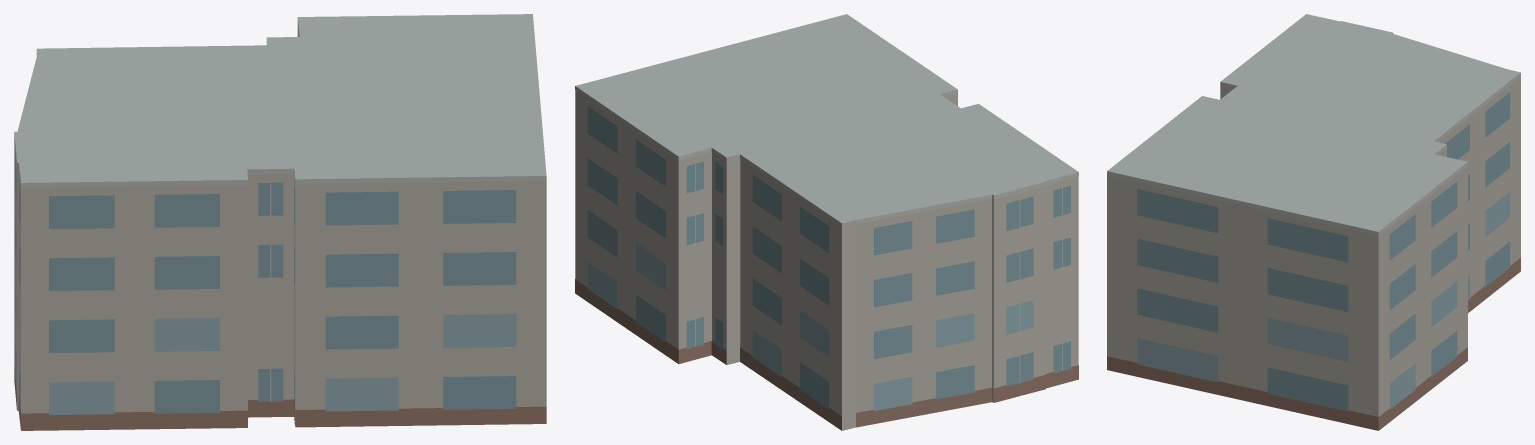
File: survey-upis-32658257.glb
3 views of the same model, side by side, from view 1: azimuth 30°, elevation 25°; view 2: azimuth 150°, elevation 25°; view 3: azimuth 270°, elevation 25° (orthographic). The views are drawn at different scales.
Parts seen in each view (by area): view 1: survey-upis-32658257.tmp; view 2: survey-upis-32658257.tmp; view 3: survey-upis-32658257.tmp.
Boxes of the visible parts, x1,y1,x2,y2 form: survey-upis-32658257.tmp: (14,14,546,430); survey-upis-32658257.tmp: (575,14,1078,430); survey-upis-32658257.tmp: (1107,14,1520,430).
Bounding box in the file's own units: 28.25 × 12.02 × 22.67.
